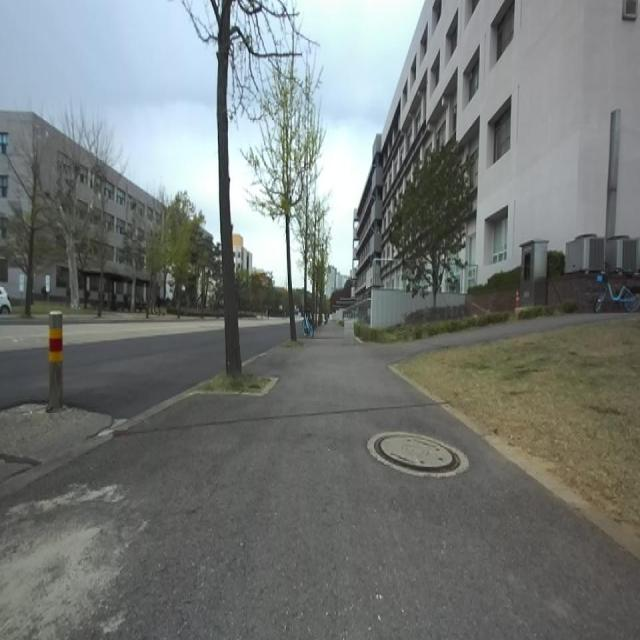sidewalk: (0, 315, 640, 639), (390, 364, 640, 560)
